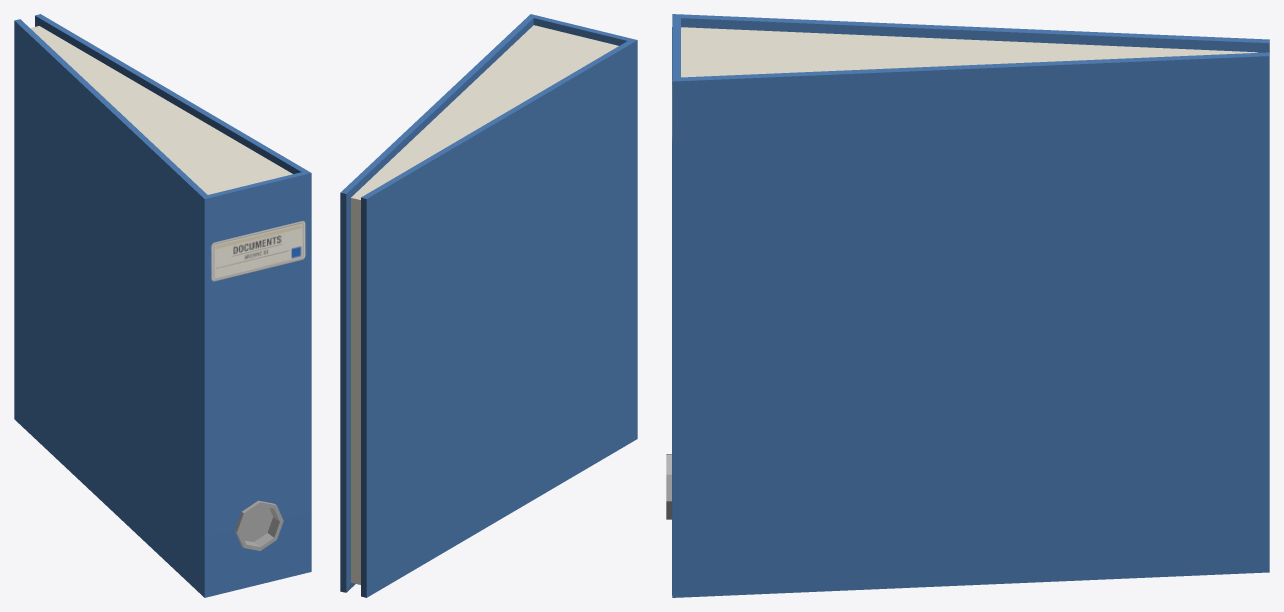
The model's file is Document_Cover_Blue.fbx.
3 renders of one model, left to right at view 1: azimuth 30°, elevation 25°; view 2: azimuth 150°, elevation 25°; view 3: azimuth 270°, elevation 25°, orthographic. The views are drawn at different scales.
Visible parts, largest first — view 1: Cape_Office; view 2: Cape_Office; view 3: Cape_Office.
Part boxes in pixels (x1=…): Cape_Office: x1=14, y1=14, x2=311, y2=597; Cape_Office: x1=340, y1=14, x2=637, y2=597; Cape_Office: x1=666, y1=14, x2=1269, y2=597.
Bounding box in the file's own units: 8 × 28.5 × 30.17.
